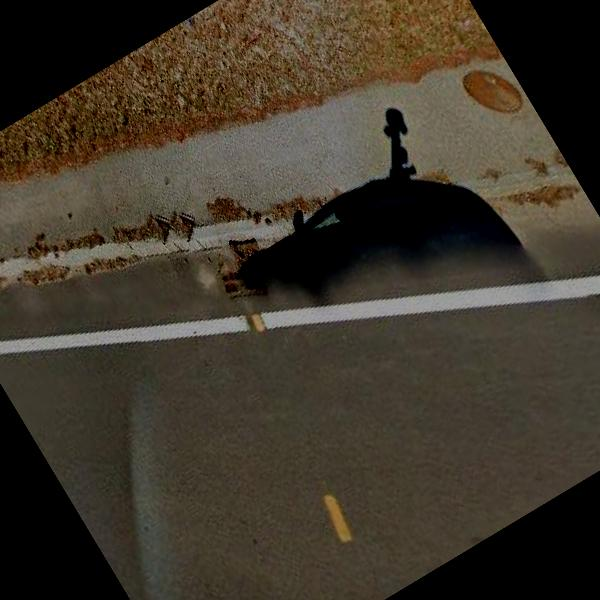manhole: (443, 36, 537, 146)
